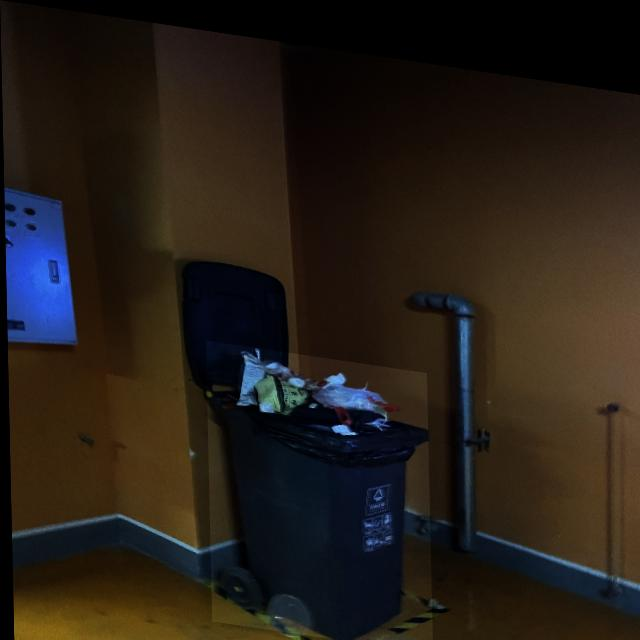overflow: (204, 334, 430, 640)
